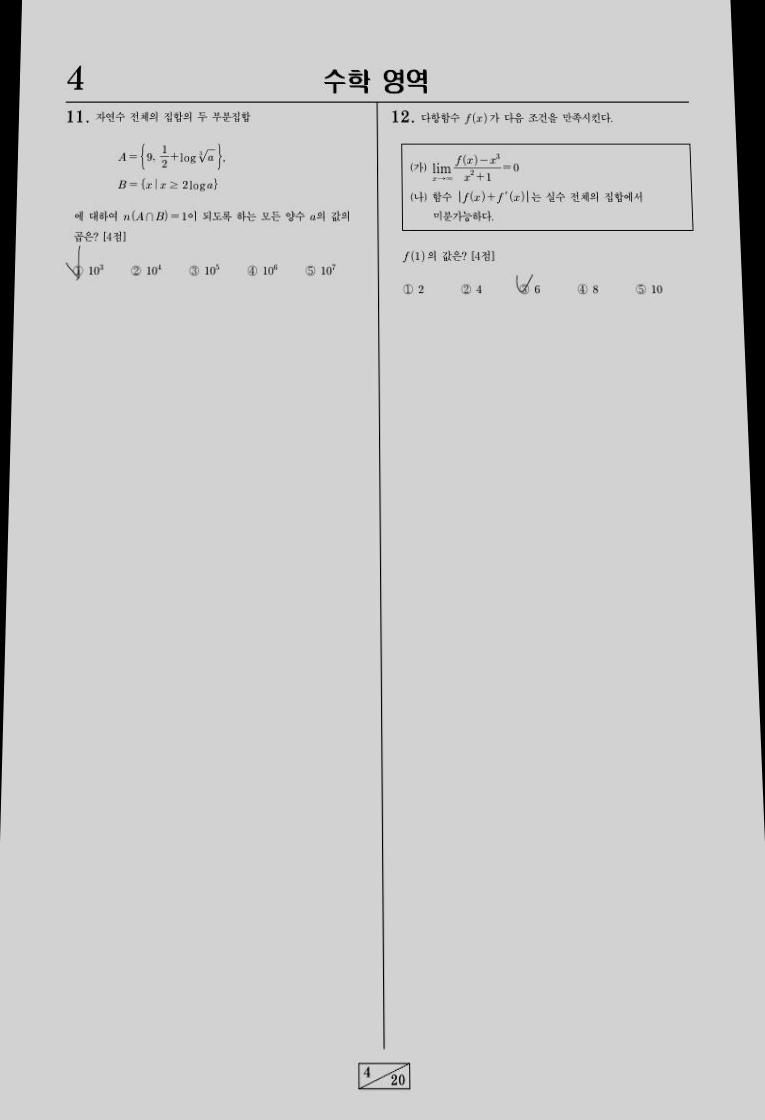question: (382, 102, 710, 312), (46, 102, 365, 295)
